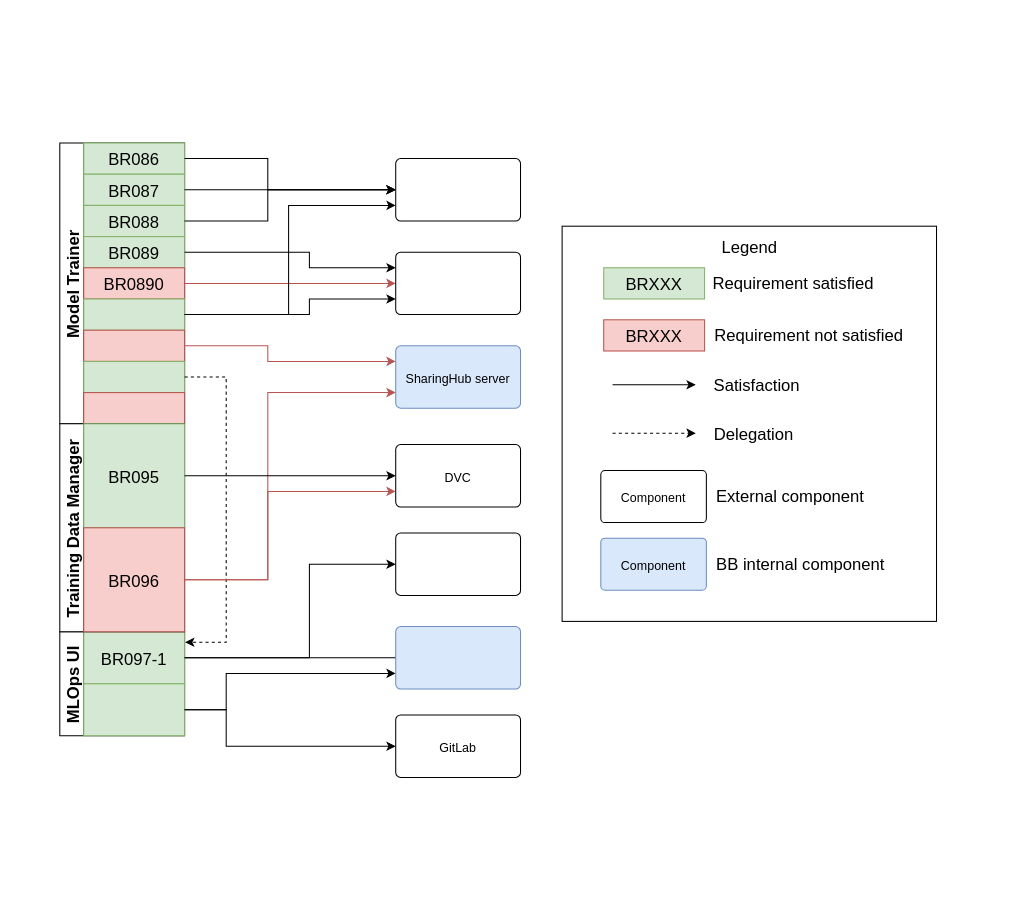
Image size: 1034x909. Some labels were removed from this diagram. The centre of each missing label's shape, as x and y in pixels:
BR091: the point at 134,314
BR092: the point at 134,345
BR093: the point at 134,376
BR094: the point at 134,408
BR097-2: the point at 134,709
MLflow client: the point at 458,189
MLflow SharingHub server: the point at 458,283
MLflow SharingHub Web UI: the point at 458,563
SharingHub UI: the point at 458,657
